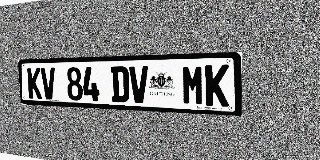4: (82, 67, 99, 101)
8: (66, 67, 83, 101)
D: (111, 66, 129, 103)
K: (205, 64, 229, 107), (27, 68, 42, 99)
M: (182, 65, 204, 106)
V: (129, 66, 149, 103), (41, 67, 56, 100)
